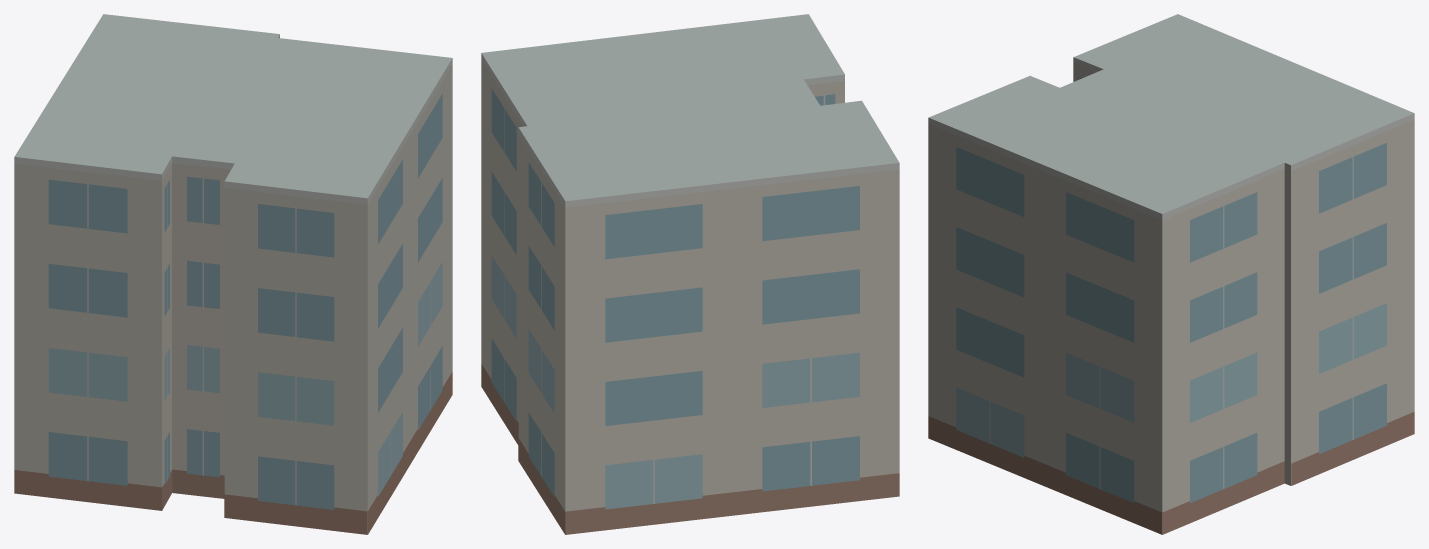
File: survey-upis-32656780.glb
3 renders of one model, left to right at view 1: azimuth 30°, elevation 25°; view 2: azimuth 150°, elevation 25°; view 3: azimuth 270°, elevation 25°, orthographic. The views are drawn at different scales.
Parts seen in each view (by area): view 1: survey-upis-32656780.tmp; view 2: survey-upis-32656780.tmp; view 3: survey-upis-32656780.tmp.
Part boxes in pixels (x1=…): survey-upis-32656780.tmp: x1=14, y1=14, x2=452, y2=534; survey-upis-32656780.tmp: x1=481, y1=14, x2=899, y2=534; survey-upis-32656780.tmp: x1=928, y1=14, x2=1414, y2=534.
Bounding box in the file's own units: 16.73 × 12.5 × 17.17.
